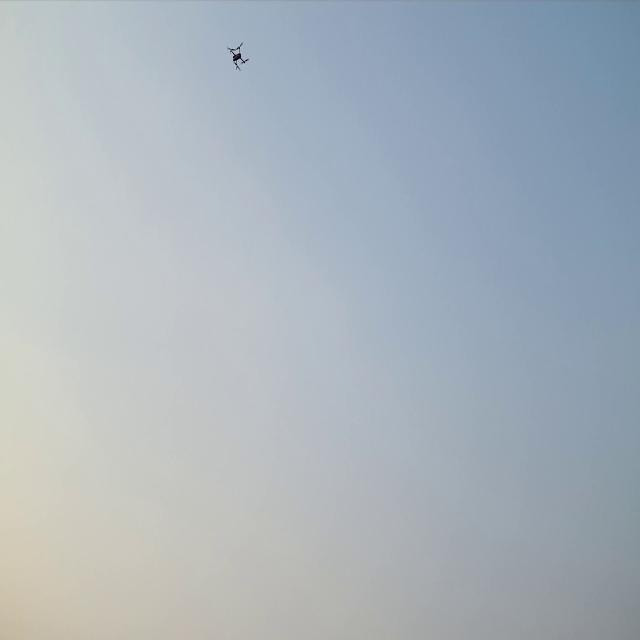UAV: (224, 41, 253, 72)
